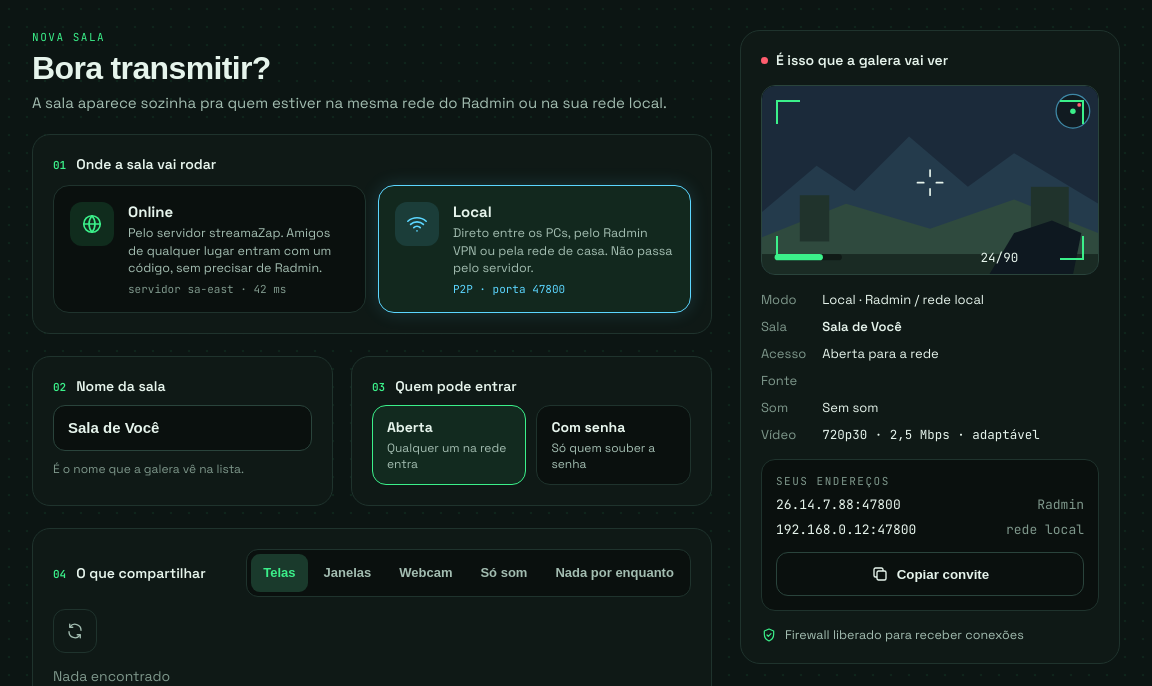
CriarScreen › hint_muda_com_modo: a legenda muda ao trocar o modo
The image size is (1152, 686).
Expected: the text "A sala aparece sozinha pra quem estiver na mesma rede do Radmin ou na sua rede local." is shown, top-left (32, 93), bottom-right (667, 112)
Click the text "Online". click: {"x": 151, "y": 212}
box: top-left (128, 202), bottom-right (173, 221)
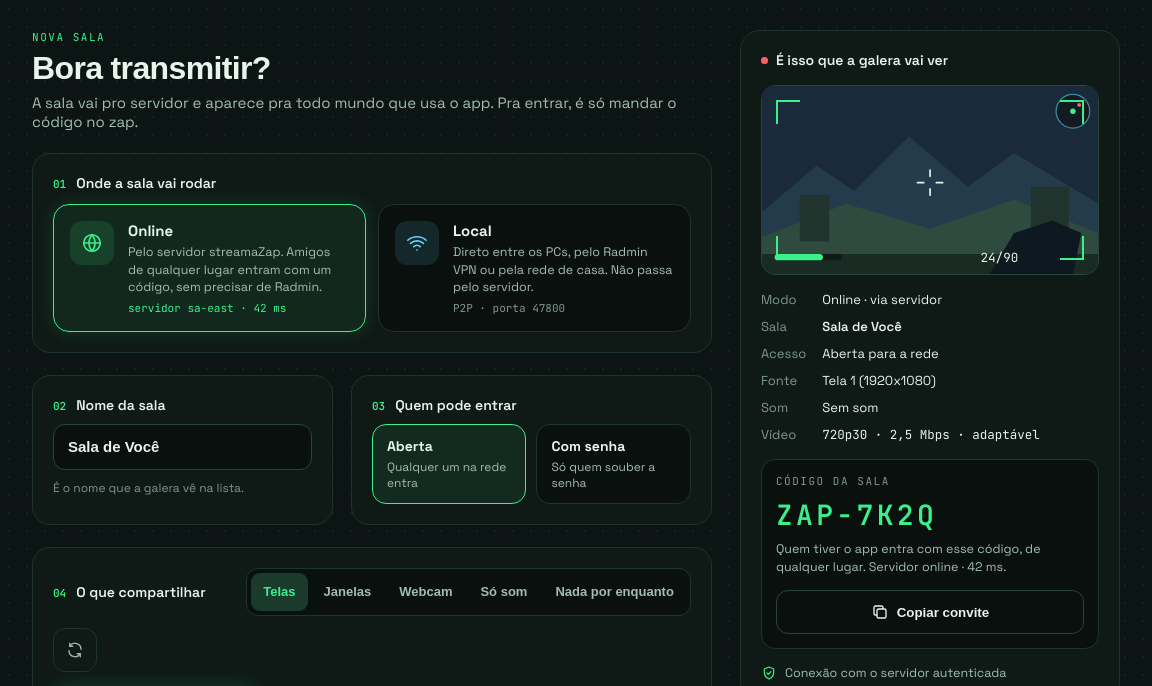
Now the text "A sala vai pro servidor e aparece pra todo mundo que usa o app. Pra entrar, é só mandar o código no zap." is shown, box top-left (32, 93), bottom-right (677, 131)
